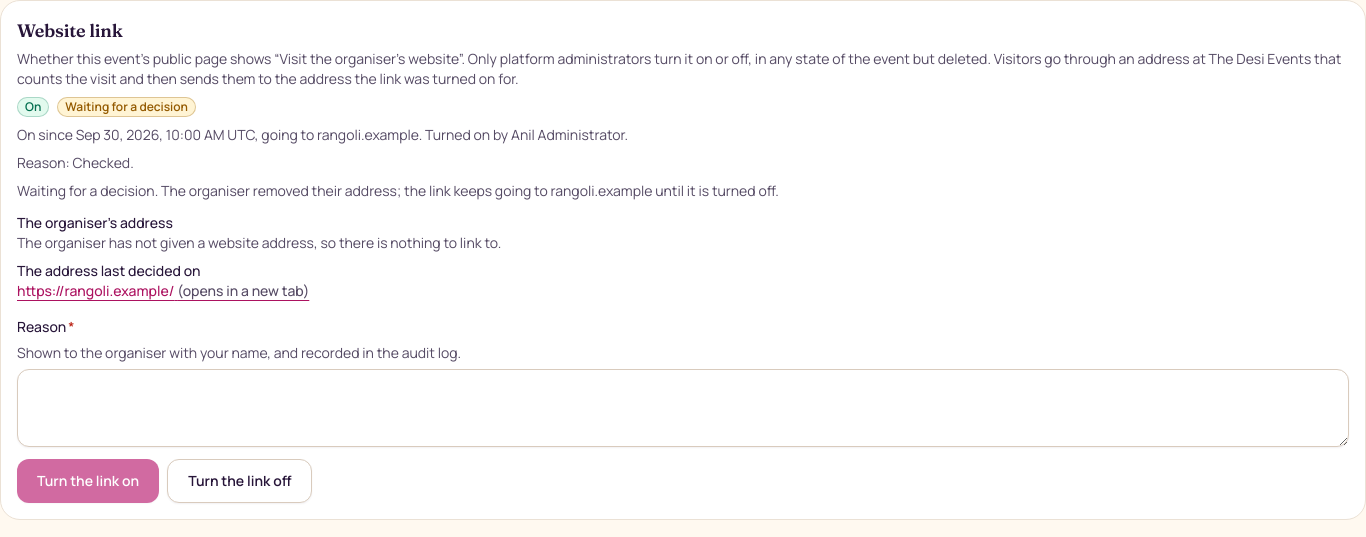
Test: the website link panel › turns a link off with a reason only, and sends null when the screen showed no address
Type "The organiser removed it." into the text box labelled "Reason*" at (683, 408), box [17,369,1349,447]
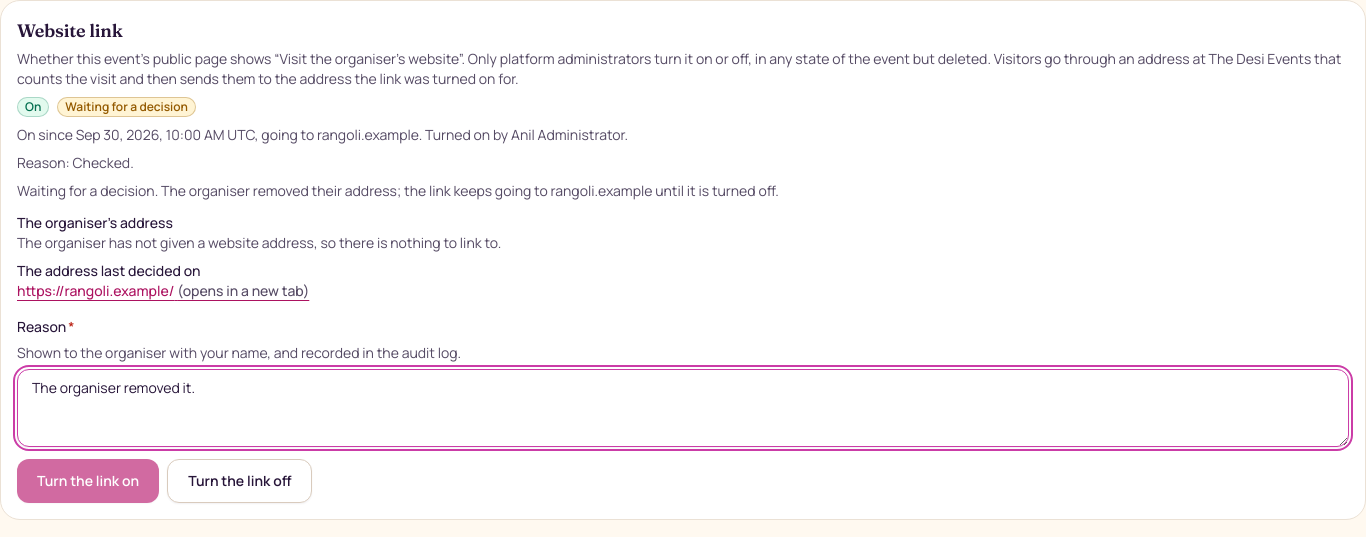
Click the button "Turn the link off" at (240, 481), box [167,459,312,503]
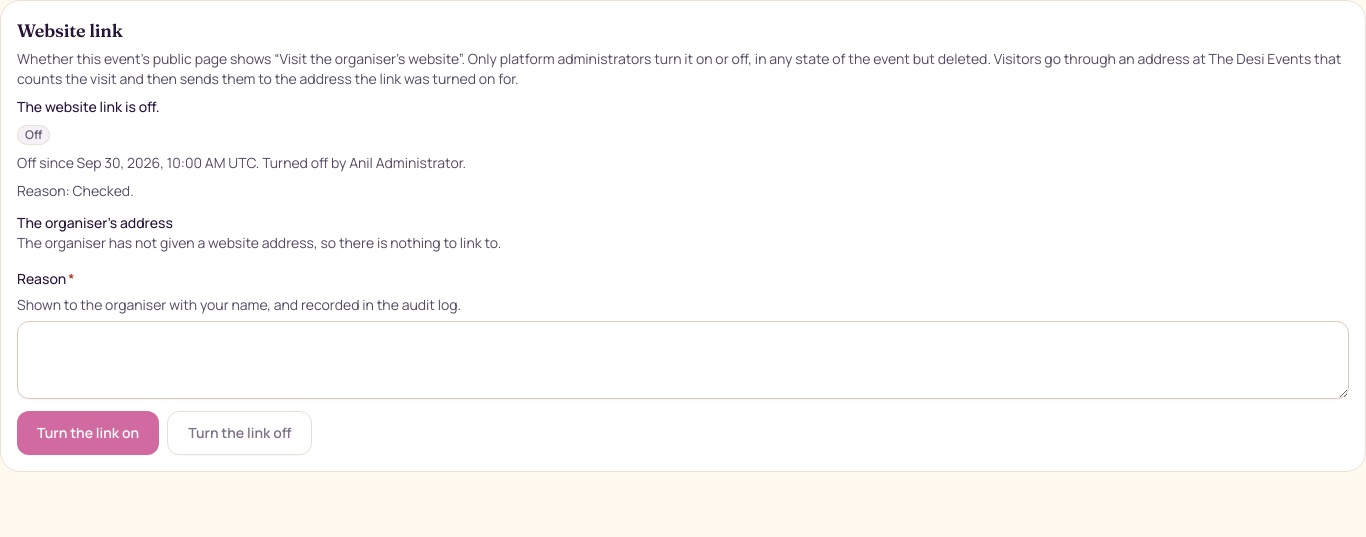
Expected: the text "The website link is off." is shown, [17,97,160,116]
